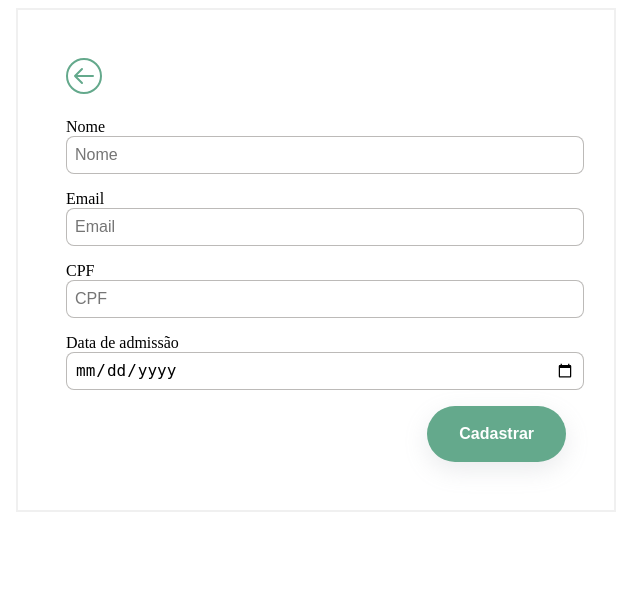
it: pages/dashboard › should display validation errors for empty fields on submit
Click the button "Cadastrar" at [497, 434], box x1=427 y1=406 x2=566 y2=462
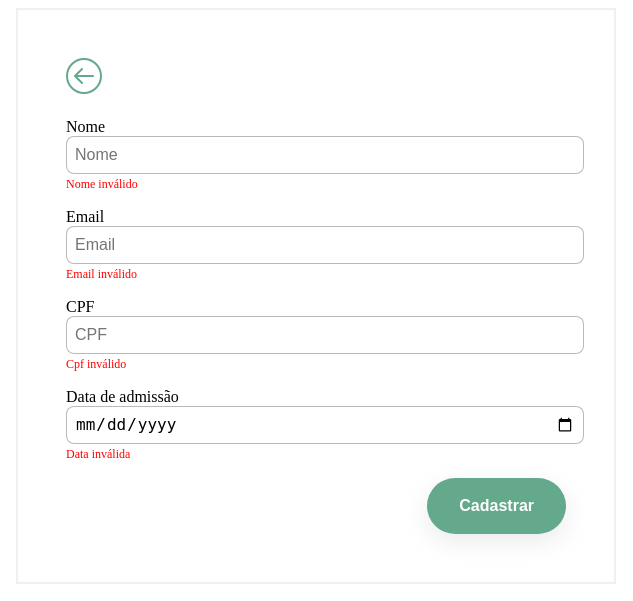
Now the text "Nome inválido" is shown, box x1=66 y1=177 x2=138 y2=191
Now the text "Email inválido" is shown, box x1=66 y1=267 x2=137 y2=281
Now the text "Cpf inválido" is shown, box x1=66 y1=357 x2=126 y2=371
